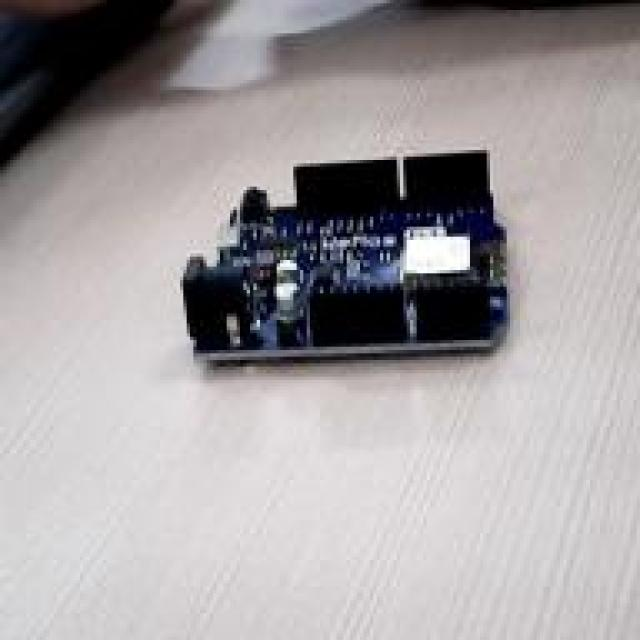Wemos: (181, 151, 508, 361)
